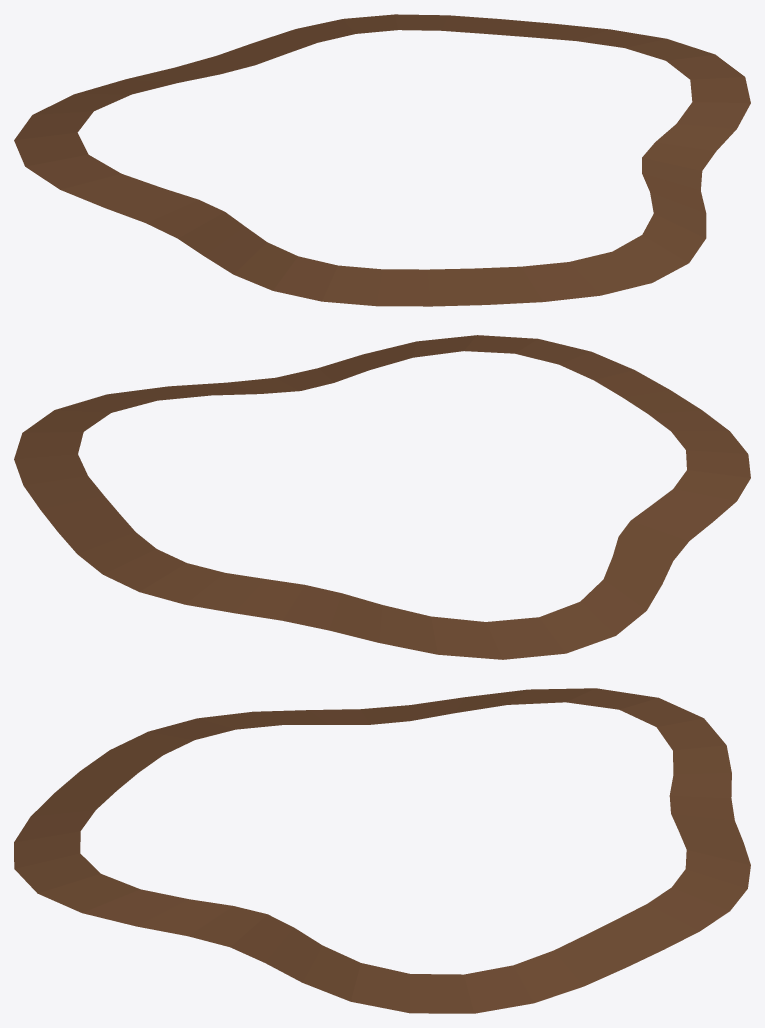
The model's file is pond_bank.obj.
The picture shows the model from 3 angles, top to bottom: view 1: azimuth 30°, elevation 25°; view 2: azimuth 150°, elevation 25°; view 3: azimuth 270°, elevation 25°; orthographic projection. The views are drawn at different scales.
Parts seen in each view (by area): view 1: bank; view 2: bank; view 3: bank.
Part boxes in pixels (bbox=[...]): bank: bbox=[14, 14, 750, 306]; bank: bbox=[14, 335, 750, 659]; bank: bbox=[14, 688, 750, 1013].
Bounding box in the file's own units: 7.49 × 0.12 × 7.17.
